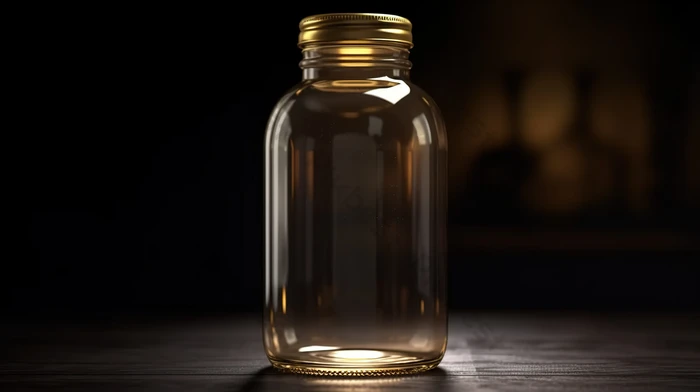glass_bottle: (250, 9, 459, 382)
